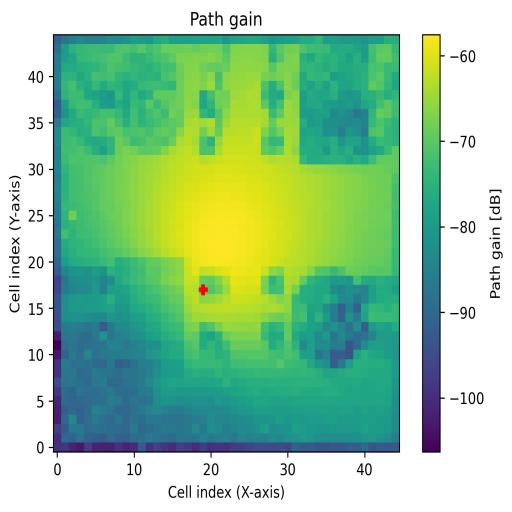Concrete: (299, 48, 377, 163)
Glass: (117, 52, 184, 155)
Metal: (292, 266, 370, 369)
Wood: (115, 256, 185, 378)
